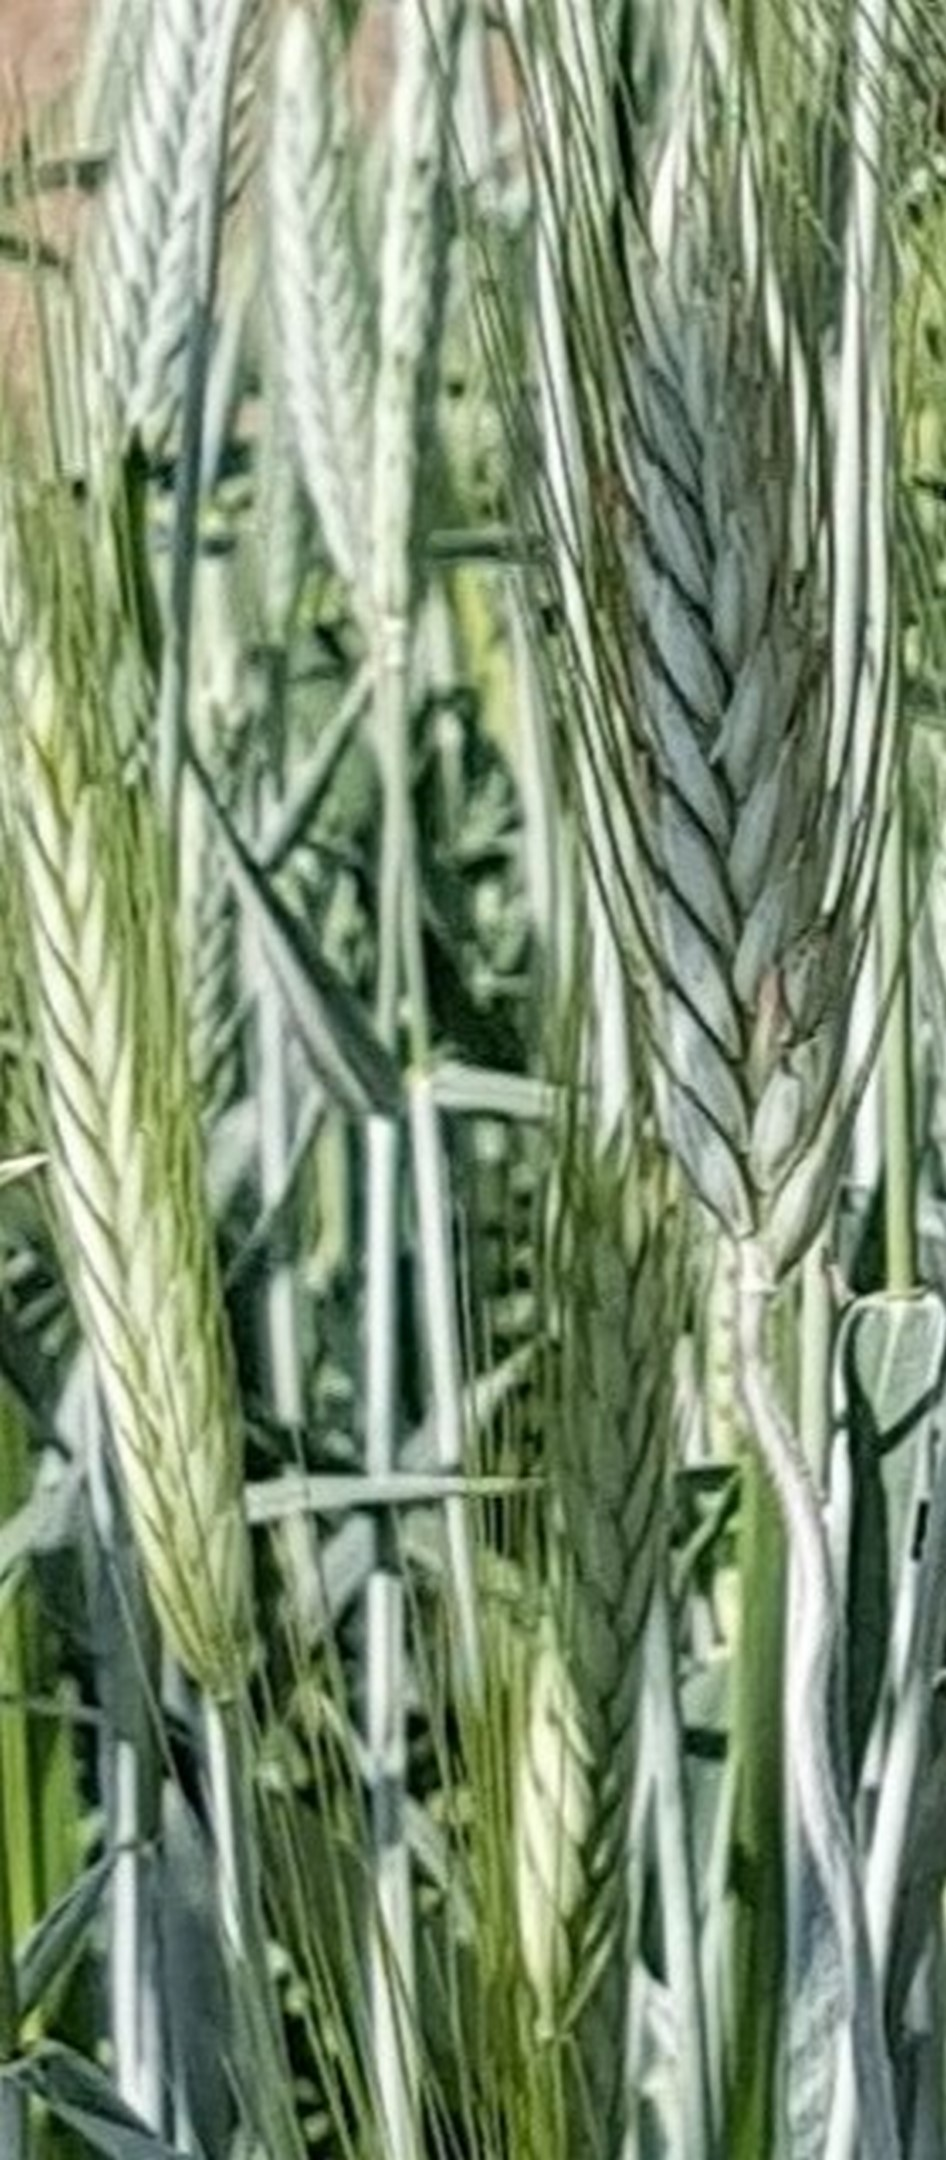Healthy Wheat: (551, 266, 946, 1238)
